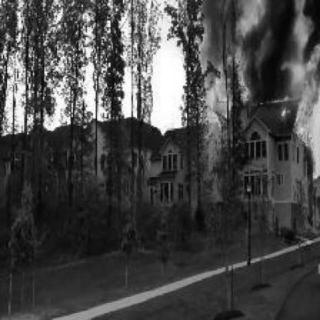Fire: (206, 57, 238, 121)
Smoke: (204, 1, 238, 57)
